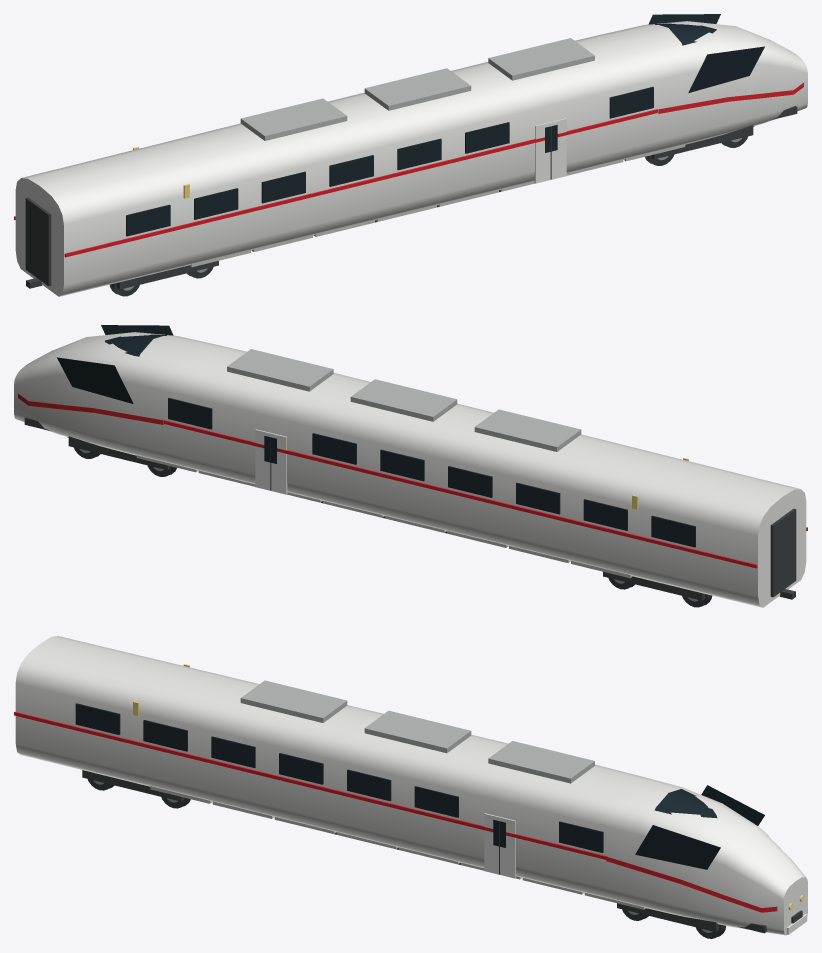
The model's file is ice3-br403-first-end-403-0.glb.
3 renders of one model, top to bottom at view 1: azimuth 30°, elevation 25°; view 2: azimuth 150°, elevation 25°; view 3: azimuth 330°, elevation 25°, orthographic.
Visible parts, largest first — view 1: ice3_first_end_403_0_lofted_shell, first_end_403_0_red_belt_-1, first_end_403_0_roof_power_fairing_0, first_end_403_0_roof_power_fairing_1, first_end_403_0_roof_power_fairing_2, first_end_403_0_gangway_-1, first_end_403_0_side_cab_window_-1, first_end_403_0_0_door_-1, first_end_403_0_00_window_-1, first_end_403_0_02_window_-1, first_end_403_0_03_window_-1, first_end_403_0_01_window_-1 (+8 smaller); view 2: ice3_first_end_403_0_lofted_shell, first_end_403_0_red_belt_1, first_end_403_0_roof_power_fairing_0, first_end_403_0_roof_power_fairing_1, first_end_403_0_roof_power_fairing_2, first_end_403_0_gangway_-1, first_end_403_0_side_cab_window_1, first_end_403_0_0_door_1, first_end_403_0_bogie_0, first_end_403_0_bogie_1, first_end_403_0_00_window_1, first_end_403_0_02_window_1 (+8 smaller); view 3: ice3_first_end_403_0_lofted_shell, first_end_403_0_red_belt_-1, first_end_403_0_roof_power_fairing_0, first_end_403_0_roof_power_fairing_1, first_end_403_0_roof_power_fairing_2, first_end_403_0_side_cab_window_-1, first_end_403_0_0_door_-1, first_end_403_0_front_windscreen_visor, first_end_403_0_00_window_-1, first_end_403_0_02_window_-1, first_end_403_0_03_window_-1, first_end_403_0_01_window_-1 (+7 smaller).
Part boxes in pixels (bbox=[...]): ice3_first_end_403_0_lofted_shell: bbox=[15, 21, 807, 296]; first_end_403_0_red_belt_-1: bbox=[64, 109, 657, 257]; first_end_403_0_roof_power_fairing_0: bbox=[240, 98, 347, 140]; first_end_403_0_roof_power_fairing_1: bbox=[364, 68, 471, 110]; first_end_403_0_roof_power_fairing_2: bbox=[488, 38, 594, 80]; first_end_403_0_gangway_-1: bbox=[25, 197, 51, 286]; first_end_403_0_side_cab_window_-1: bbox=[688, 46, 764, 92]; first_end_403_0_0_door_-1: bbox=[534, 118, 566, 183]; first_end_403_0_00_window_-1: bbox=[126, 204, 170, 236]; first_end_403_0_02_window_-1: bbox=[261, 171, 305, 203]; first_end_403_0_03_window_-1: bbox=[329, 155, 373, 186]; first_end_403_0_01_window_-1: bbox=[194, 188, 238, 219]; ice3_first_end_403_0_lofted_shell: bbox=[14, 332, 806, 607]; first_end_403_0_red_belt_1: bbox=[164, 420, 757, 568]; first_end_403_0_roof_power_fairing_0: bbox=[474, 409, 581, 451]; first_end_403_0_roof_power_fairing_1: bbox=[350, 379, 457, 421]; first_end_403_0_roof_power_fairing_2: bbox=[227, 349, 333, 391]; first_end_403_0_gangway_-1: bbox=[770, 508, 796, 597]; first_end_403_0_side_cab_window_1: bbox=[57, 357, 133, 403]; first_end_403_0_0_door_1: bbox=[255, 429, 287, 494]; first_end_403_0_bogie_0: bbox=[603, 572, 712, 607]; first_end_403_0_bogie_1: bbox=[68, 436, 176, 476]; first_end_403_0_00_window_1: bbox=[651, 515, 695, 547]; first_end_403_0_02_window_1: bbox=[516, 482, 560, 514]; ice3_first_end_403_0_lofted_shell: bbox=[15, 636, 807, 935]; first_end_403_0_red_belt_-1: bbox=[14, 712, 606, 859]; first_end_403_0_roof_power_fairing_0: bbox=[240, 680, 347, 722]; first_end_403_0_roof_power_fairing_1: bbox=[364, 710, 471, 753]; first_end_403_0_roof_power_fairing_2: bbox=[488, 741, 594, 783]; first_end_403_0_side_cab_window_-1: bbox=[635, 825, 720, 869]; first_end_403_0_0_door_-1: bbox=[484, 813, 515, 878]; first_end_403_0_front_windscreen_visor: bbox=[654, 789, 717, 818]; first_end_403_0_00_window_-1: bbox=[75, 703, 120, 734]; first_end_403_0_02_window_-1: bbox=[211, 736, 255, 768]; first_end_403_0_03_window_-1: bbox=[279, 753, 323, 784]; first_end_403_0_01_window_-1: bbox=[143, 720, 187, 751].
Size of the model in its own units: 26.13 by 4.07 by 3.2.
